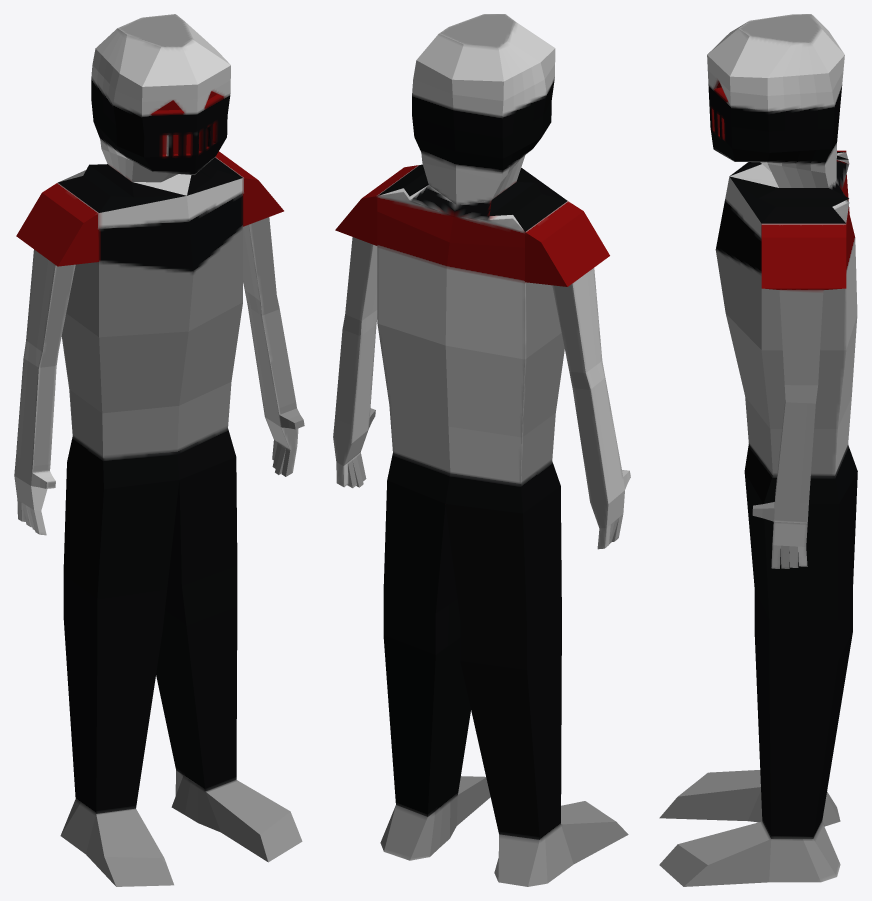
Rendered from prince.fbx.
3 views of the same model, side by side, from view 1: azimuth 30°, elevation 25°; view 2: azimuth 150°, elevation 25°; view 3: azimuth 270°, elevation 25° (orthographic). The views are drawn at different scales.
Parts seen in each view (by area): view 1: Cube; view 2: Cube; view 3: Cube.
Part boxes in pixels (left/top/right/bottom): Cube: left=14, top=14, right=304, bottom=886; Cube: left=333, top=14, right=630, bottom=886; Cube: left=659, top=14, right=857, bottom=886.
Size of the model in its own units: 63.23 by 180 by 39.8.
1 material, 1 textured.
